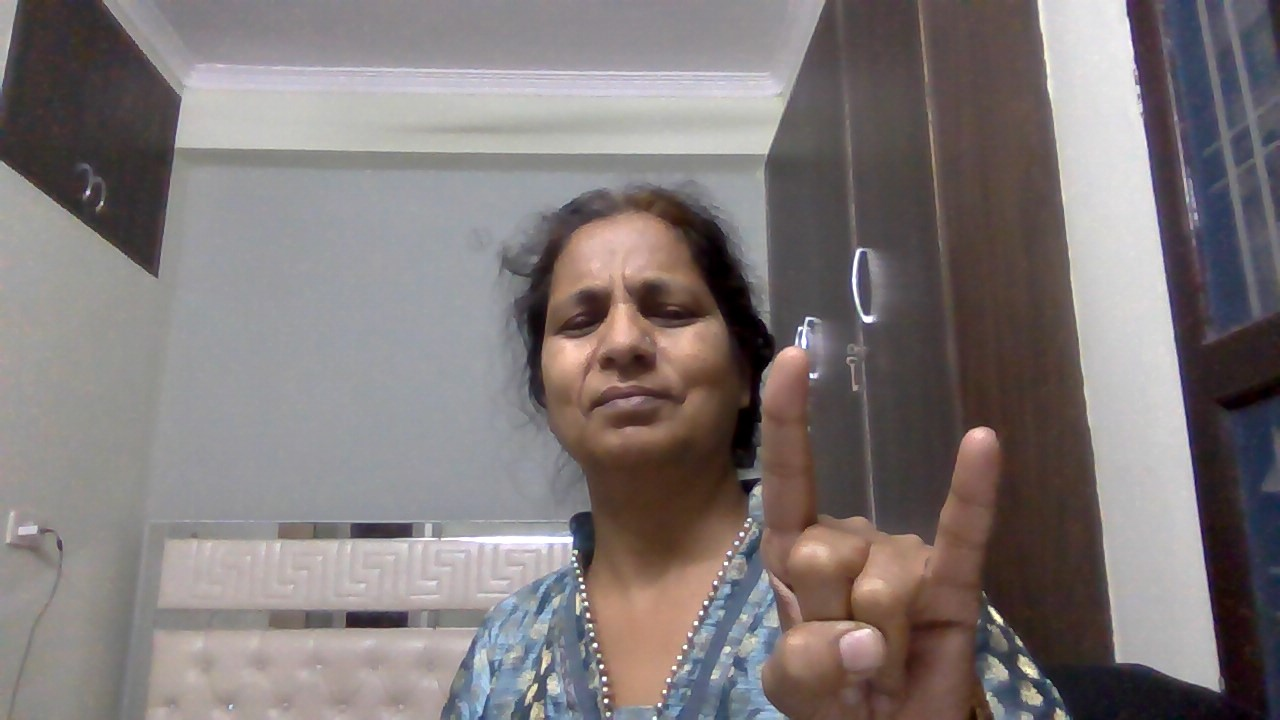Select All: (742, 342, 1024, 720)
